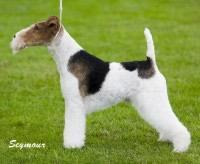wire-haired_fox_terrier: (10, 15, 191, 153)
